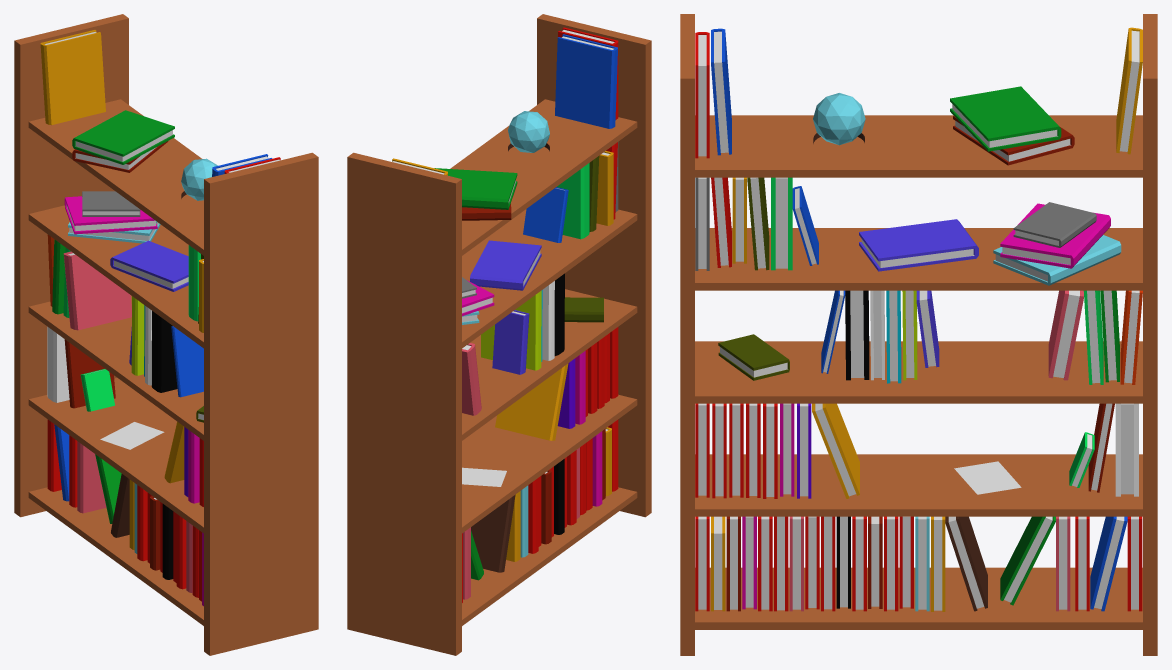
The model's file is bookshelf.glb.
3 views of the same model, side by side, from view 1: azimuth 30°, elevation 25°; view 2: azimuth 150°, elevation 25°; view 3: azimuth 270°, elevation 25° (orthographic). The views are drawn at different scales.
Parts seen in each view (by area): view 1: bookshelf, Cube.019_17; view 2: bookshelf, Cube.019_17; view 3: bookshelf, Cube.019_0.001, Cube.019_17.
Boxes of the visible parts, box(x1,y1,x2,y2) form: bookshelf: box(14, 14, 318, 655); Cube.019_17: box(131, 296, 144, 375); bookshelf: box(347, 14, 651, 655); Cube.019_17: box(481, 290, 541, 370); bookshelf: box(680, 14, 1157, 655); Cube.019_0.001: box(905, 290, 914, 377); Cube.019_17: box(902, 290, 917, 380).
Size of the model in its own units: 0.1643 by 0.6829 by 0.5118.
